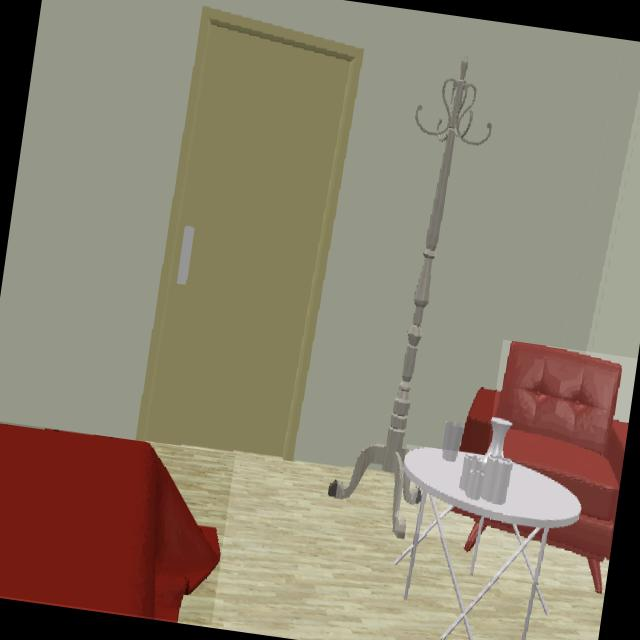bed: (0, 426, 220, 622)
sofa: (492, 342, 628, 591)
table: (403, 449, 582, 541)
